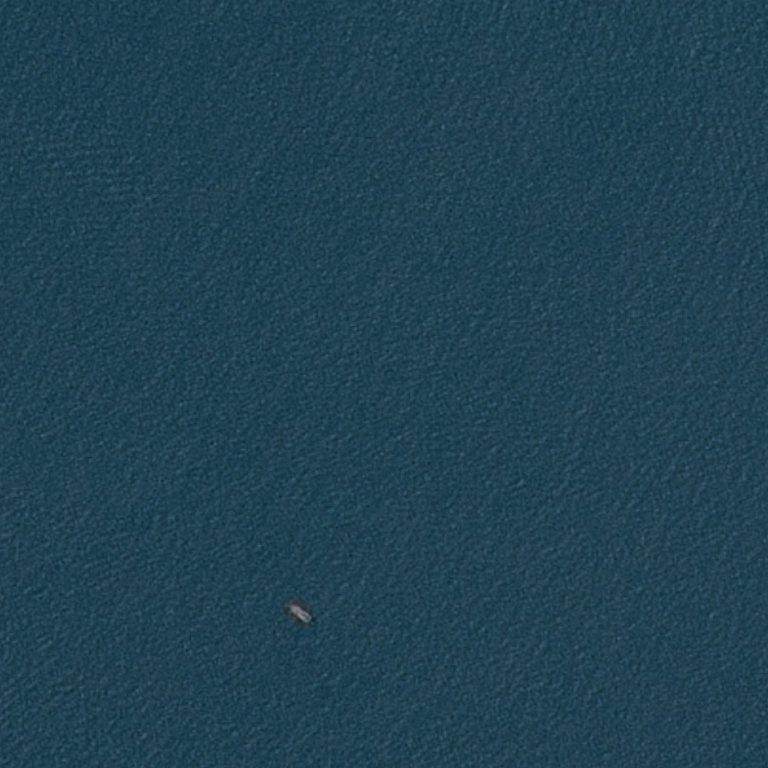ship: (284, 602, 313, 626), (289, 604, 294, 609), (304, 620, 308, 624), (308, 612, 308, 617)
